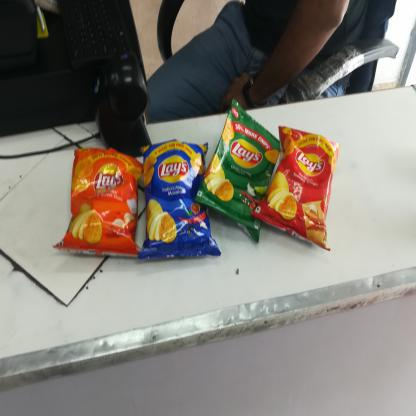chile_limon: (201, 106, 274, 255)
hot_and_sweet: (74, 152, 141, 264)
indian_magic_masala: (143, 145, 218, 259)
tangy_tomato: (274, 121, 338, 262)
